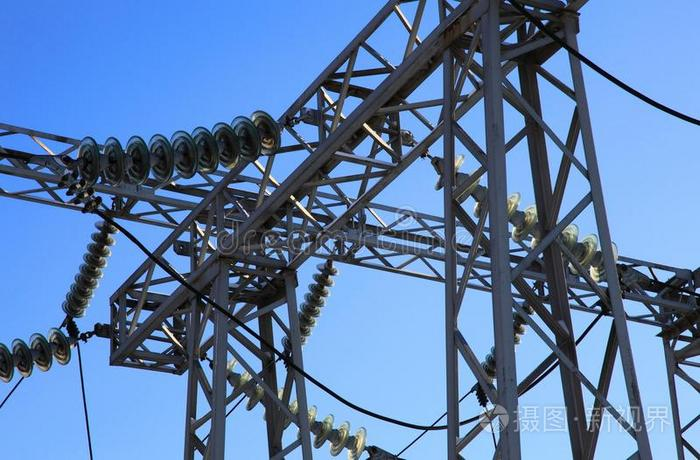insulator: (449, 159, 619, 275), (80, 108, 285, 185), (221, 360, 370, 460), (62, 219, 115, 317), (285, 262, 339, 353), (1, 327, 73, 380), (485, 306, 529, 377)
